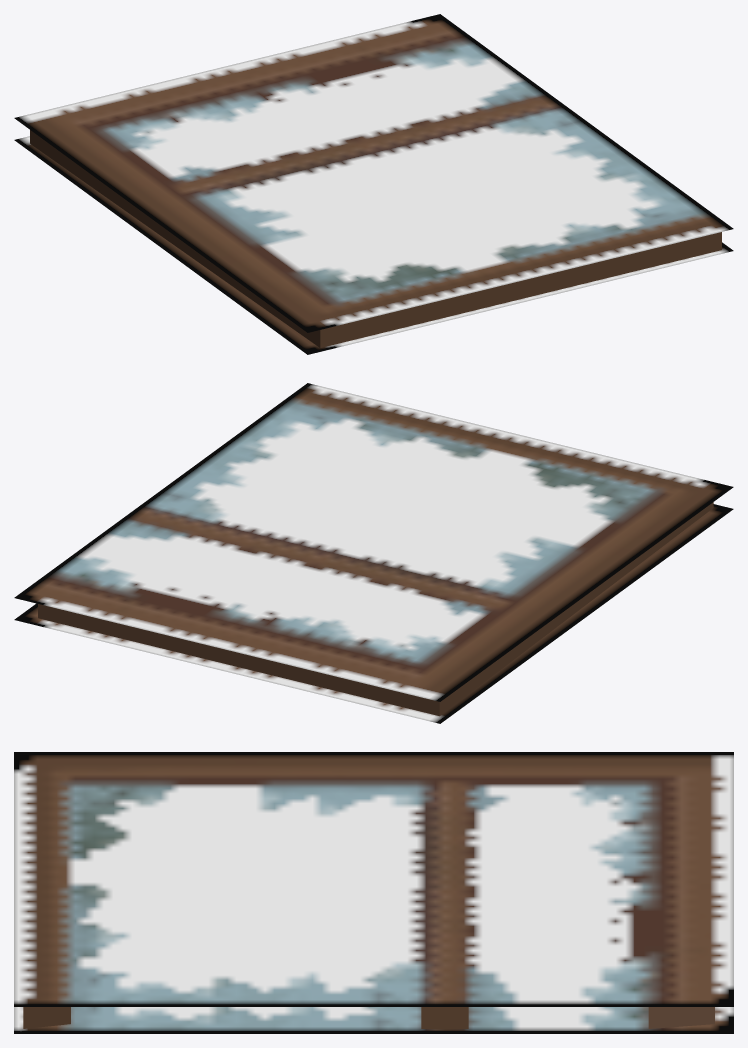
File: pz_native_location_hospitality_sunstarmotel_01_38_frame.obj
3 views of the same model, one above another, from view 1: azimuth 30°, elevation 25°; view 2: azimuth 150°, elevation 25°; view 3: azimuth 270°, elevation 25° (orthographic). The views are drawn at different scales.
Visible parts, largest first — view 1: pz_native_location_hospitality_sunstarmotel_01_38_frame; view 2: pz_native_location_hospitality_sunstarmotel_01_38_frame; view 3: pz_native_location_hospitality_sunstarmotel_01_38_frame.
Boxes of the visible parts, x1,y1,x2,y2 form: pz_native_location_hospitality_sunstarmotel_01_38_frame: [14, 14, 733, 354]; pz_native_location_hospitality_sunstarmotel_01_38_frame: [14, 383, 733, 723]; pz_native_location_hospitality_sunstarmotel_01_38_frame: [14, 752, 733, 1033].
Size of the model in its own units: 0.8125 by 0.04 by 0.9696.
Materials: 1 (1 with a texture image).
